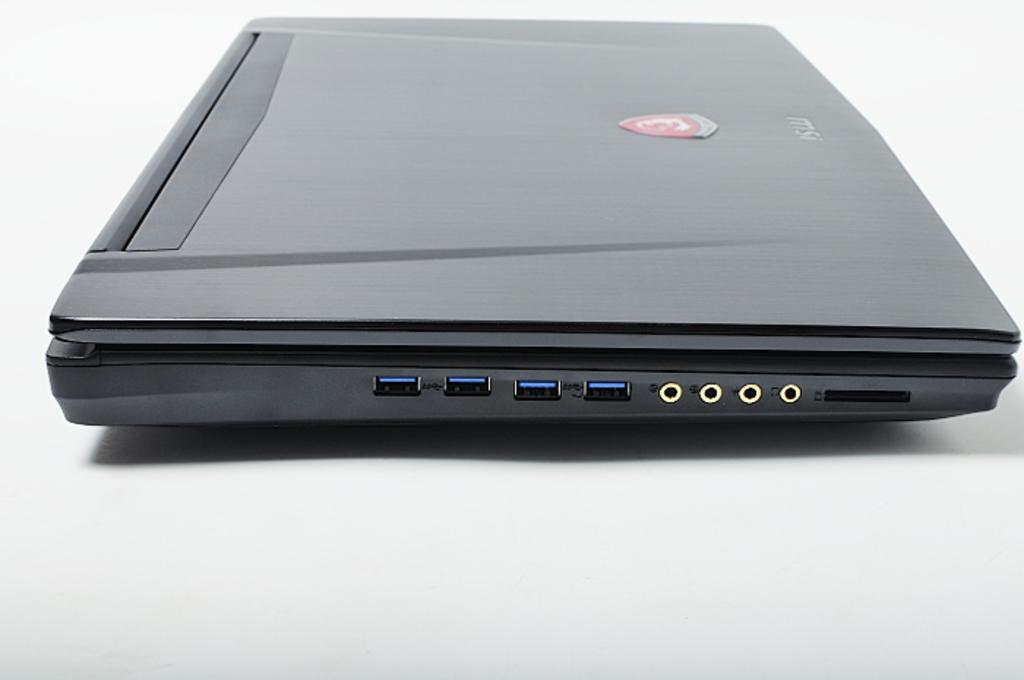Laptop: (0, 6, 1005, 461)
